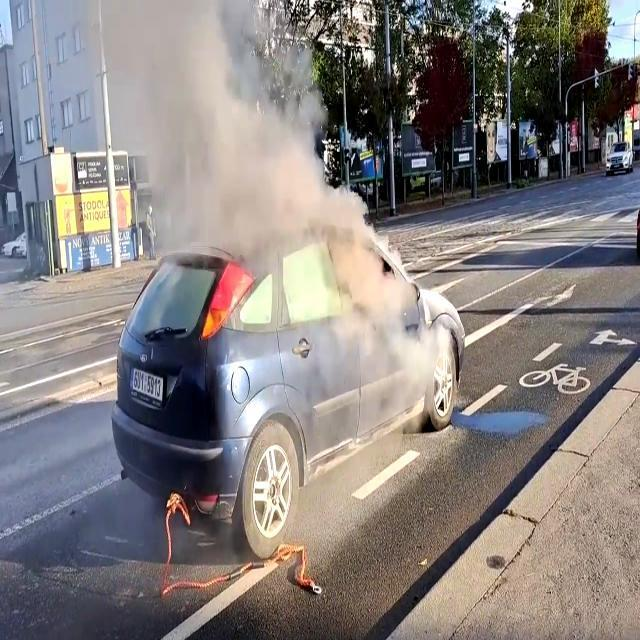Smoke: (18, 0, 417, 371)
